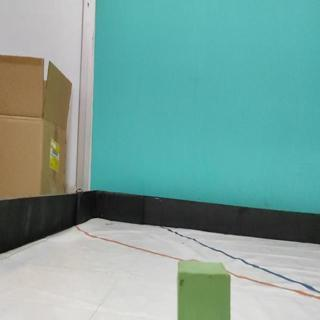greenbox: (176, 259, 232, 320)
